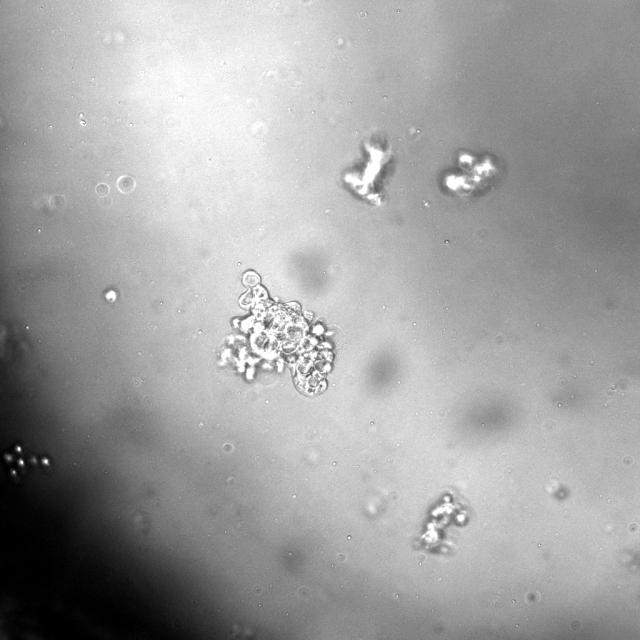organoid: (213, 267, 336, 399), (342, 133, 394, 205), (418, 491, 469, 551), (439, 150, 501, 198), (2, 442, 51, 482)
